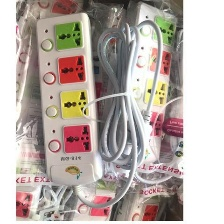three_eye_plug: (31, 9, 103, 191), (104, 0, 180, 172)
